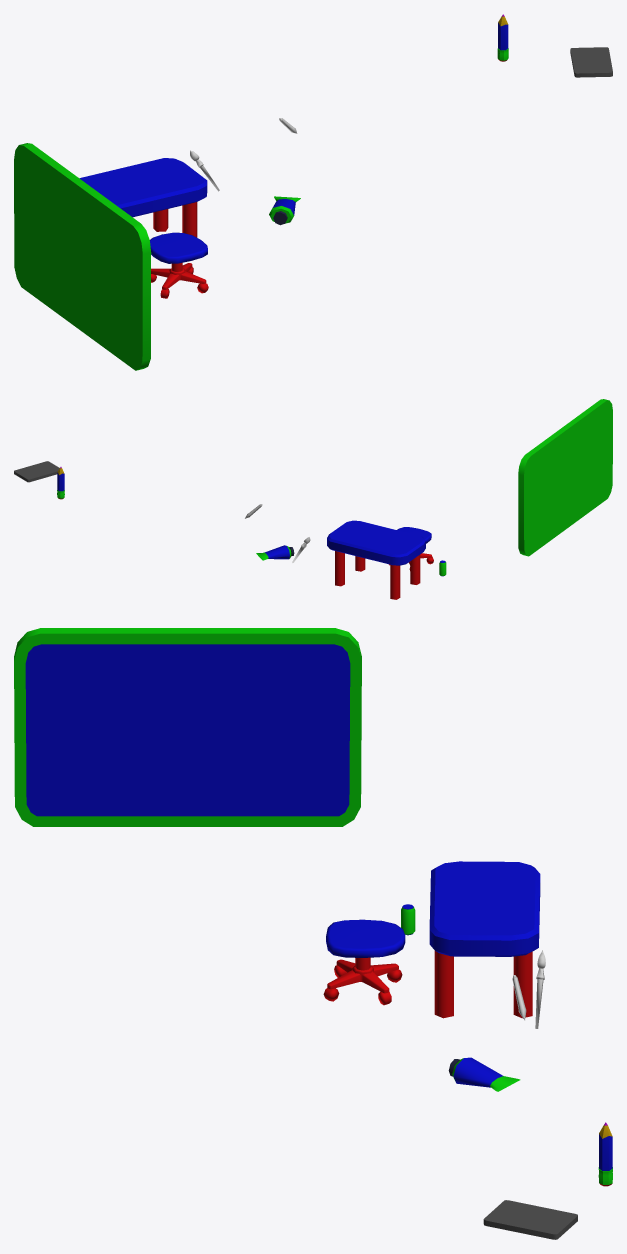
Rendered from LOWLOW.fbx.
The picture shows the model from 3 angles, top to bottom: view 1: azimuth 30°, elevation 25°; view 2: azimuth 150°, elevation 25°; view 3: azimuth 270°, elevation 25°; orthographic projection. The views are drawn at different scales.
Visible parts, largest first — view 1: d_board_L.001, d_desk_L.002_L, design chair_L, chair.002, A_paint_L, pencil_L.001; view 2: d_board_L.001, d_desk_L.002_L, chair.002, A_paint_L, design chair_L; view 3: d_board_L.001, d_desk_L.002_L, design chair_L, chair.002, A_paint_L, pencil_L.001.
Boxes of the visible parts, x1=… form: d_board_L.001: x1=14, y1=143, x2=151, y2=370; d_desk_L.002_L: x1=79, y1=158, x2=207, y2=237; design chair_L: x1=150, y1=232, x2=208, y2=298; chair.002: x1=570, y1=47, x2=612, y2=77; A_paint_L: x1=269, y1=196, x2=300, y2=225; pencil_L.001: x1=497, y1=14, x2=508, y2=61; d_board_L.001: x1=518, y1=399, x2=612, y2=556; d_desk_L.002_L: x1=327, y1=520, x2=425, y2=599; chair.002: x1=14, y1=461, x2=59, y2=482; A_paint_L: x1=256, y1=545, x2=294, y2=560; design chair_L: x1=389, y1=527, x2=433, y2=570; d_board_L.001: x1=14, y1=628, x2=361, y2=826; d_desk_L.002_L: x1=429, y1=861, x2=540, y2=1018; design chair_L: x1=323, y1=919, x2=405, y2=1005; chair.002: x1=483, y1=1200, x2=577, y2=1239; A_paint_L: x1=448, y1=1057, x2=520, y2=1091; pencil_L.001: x1=598, y1=1122, x2=612, y2=1186.
Bounding box in the file's own units: 878 × 506 × 238.
